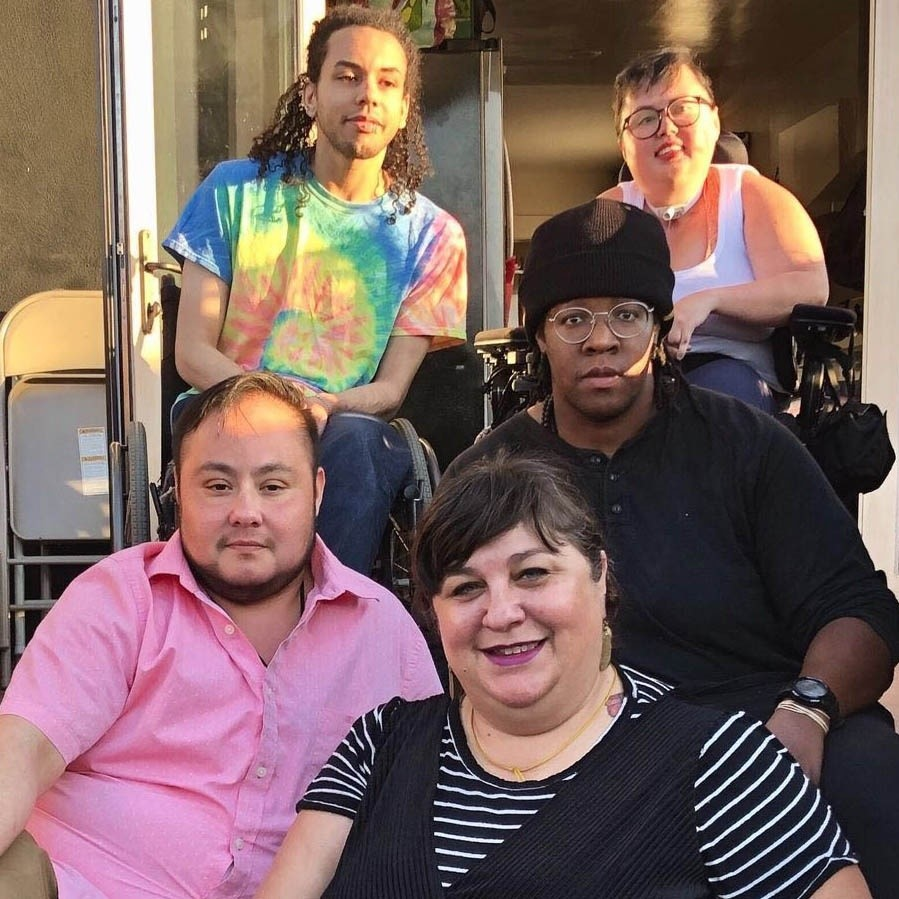face_no_mask: (422, 455, 609, 730), (166, 378, 328, 597), (530, 224, 665, 411), (300, 9, 412, 160), (618, 48, 717, 209)
